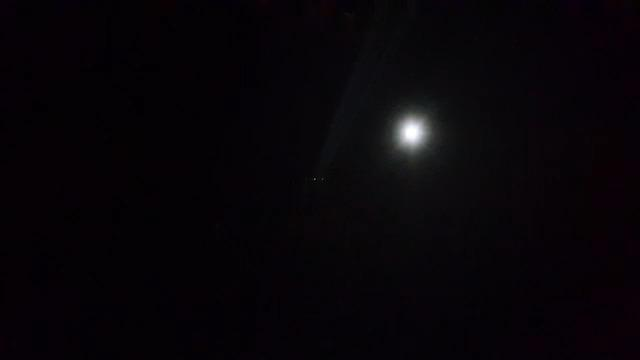Plane: (302, 120, 356, 187)
